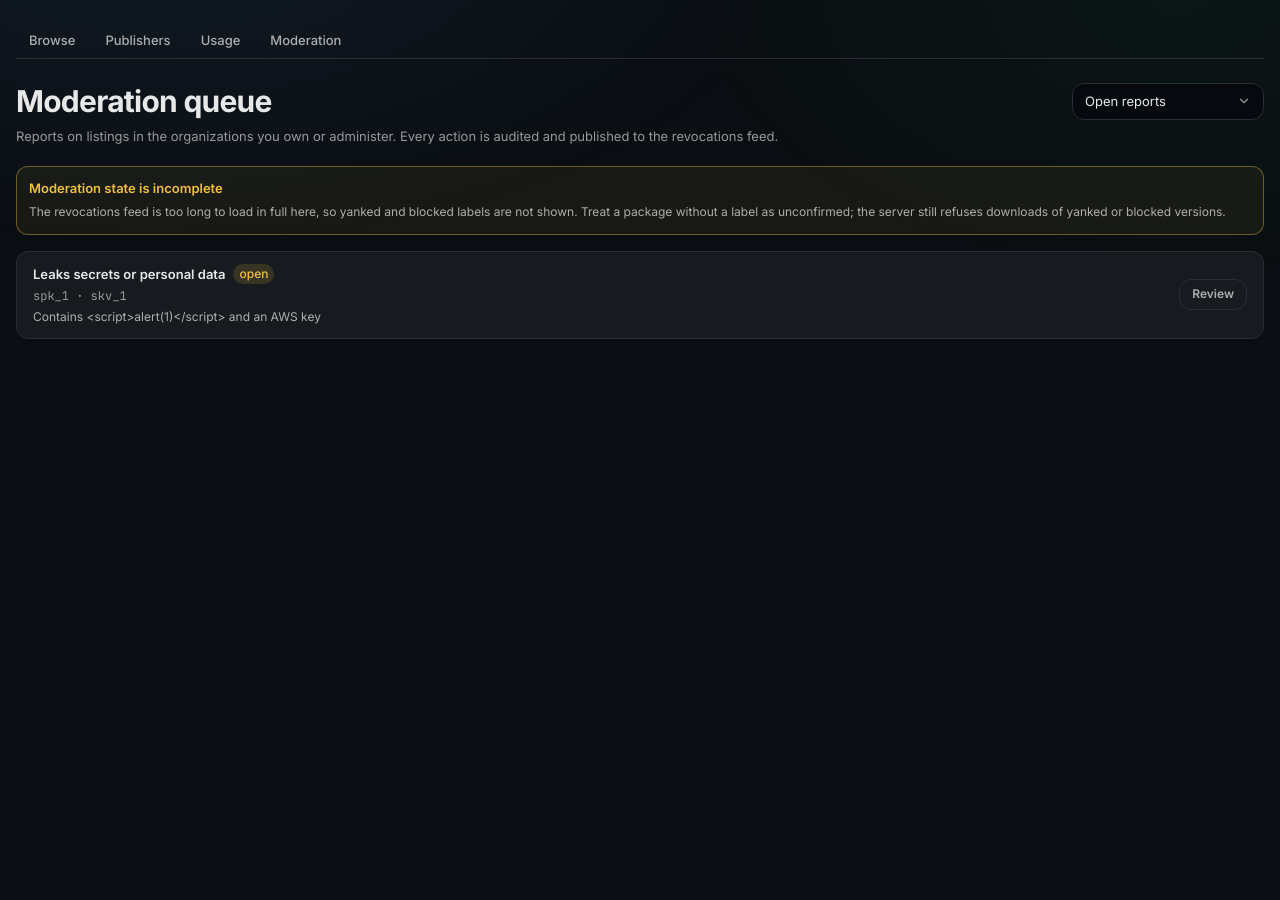
Test: ModerationPage › flags moderation state as incomplete when the feed was truncated
Expected: the text "Moderation state is incomplete" is shown, [29,180,223,196]
Click the button with aria-label "Review report spr_1". click: (1213, 295)
box: [1179,279,1247,310]
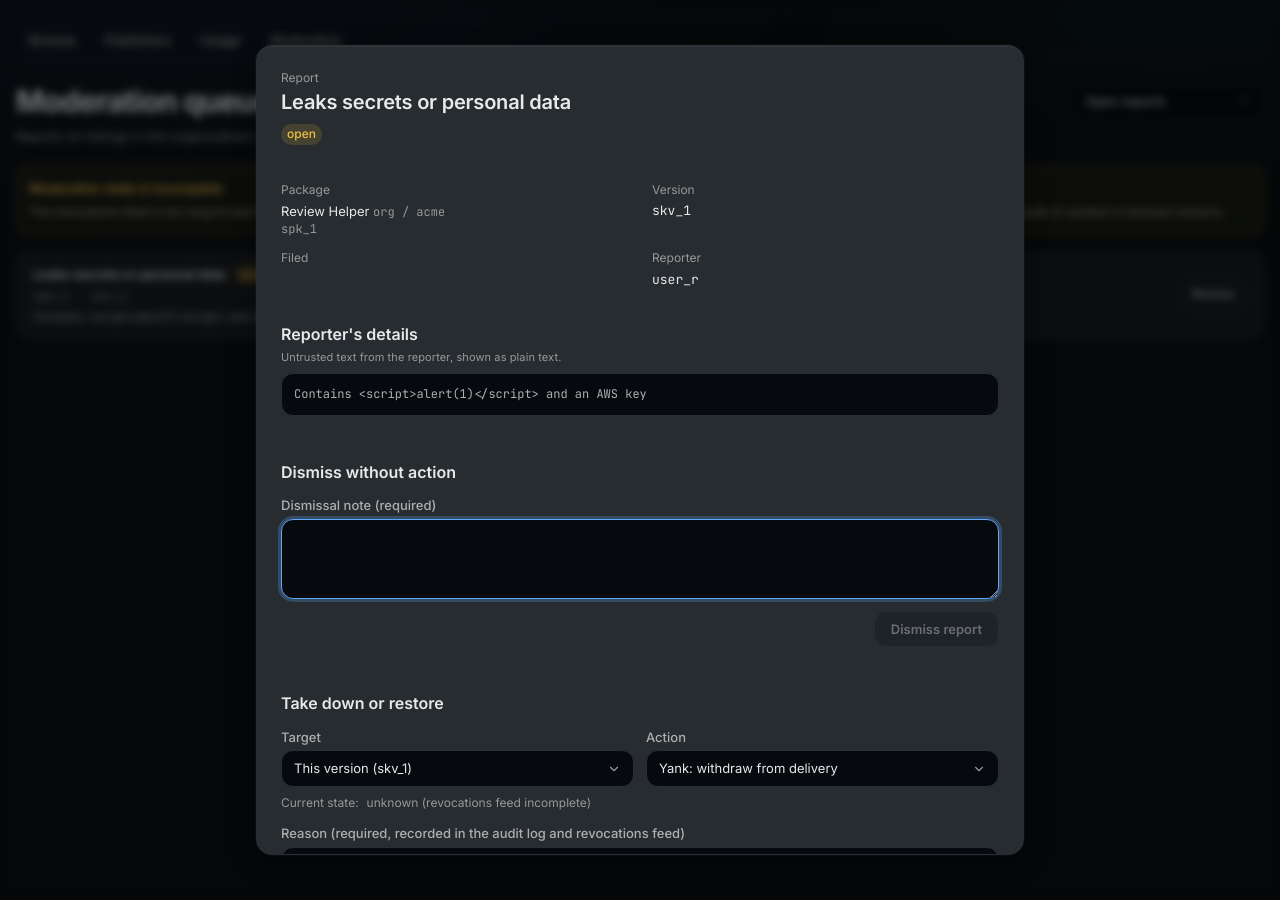
Result: the text "unknown (revocations feed incomplete)" is shown at [367,795,591,812]
